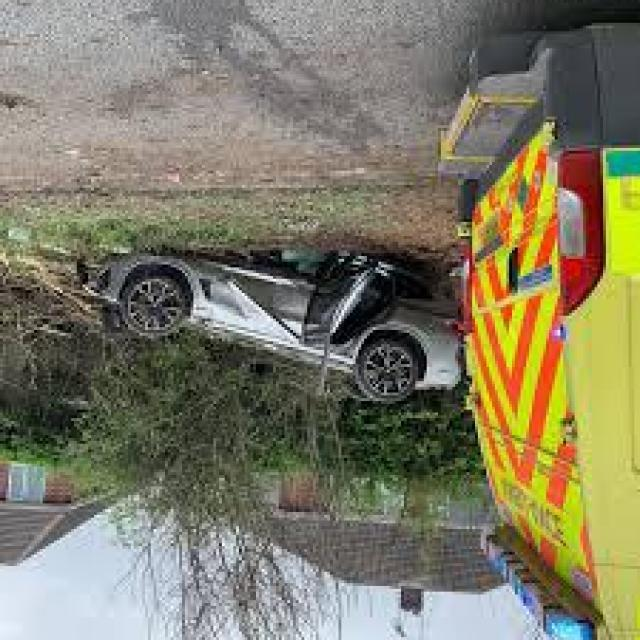severe: (84, 238, 465, 416)
